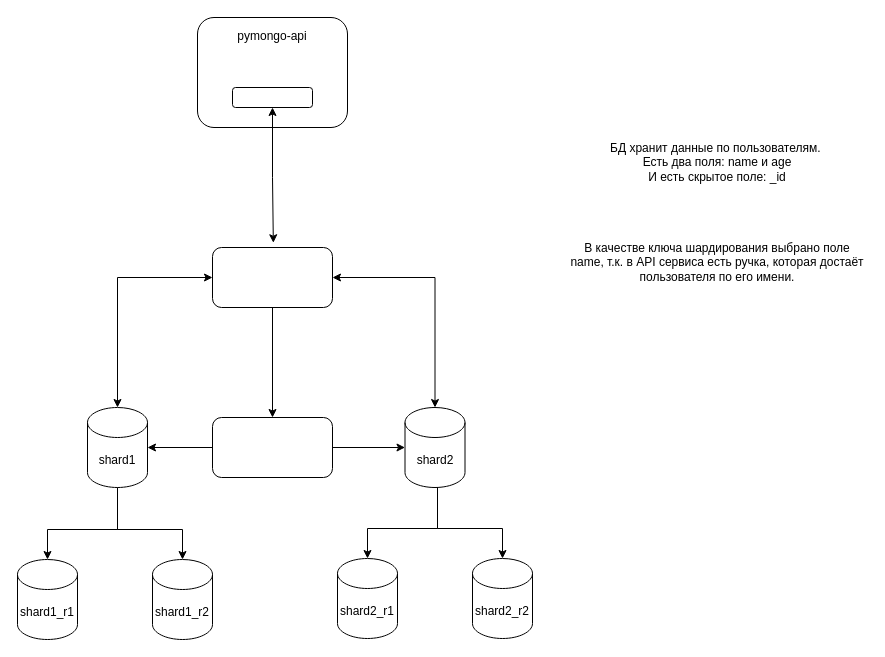
Image size: 885x657. Some labels were removed from this diagram. The centre of each missing label's shape, as x and y in pixels:
"configSrv Конфигурационный сервер" belongs at (x=272, y=447).
"mongos_router Роутер" belongs at (x=272, y=277).
"Драйвер" belongs at (x=272, y=97).
